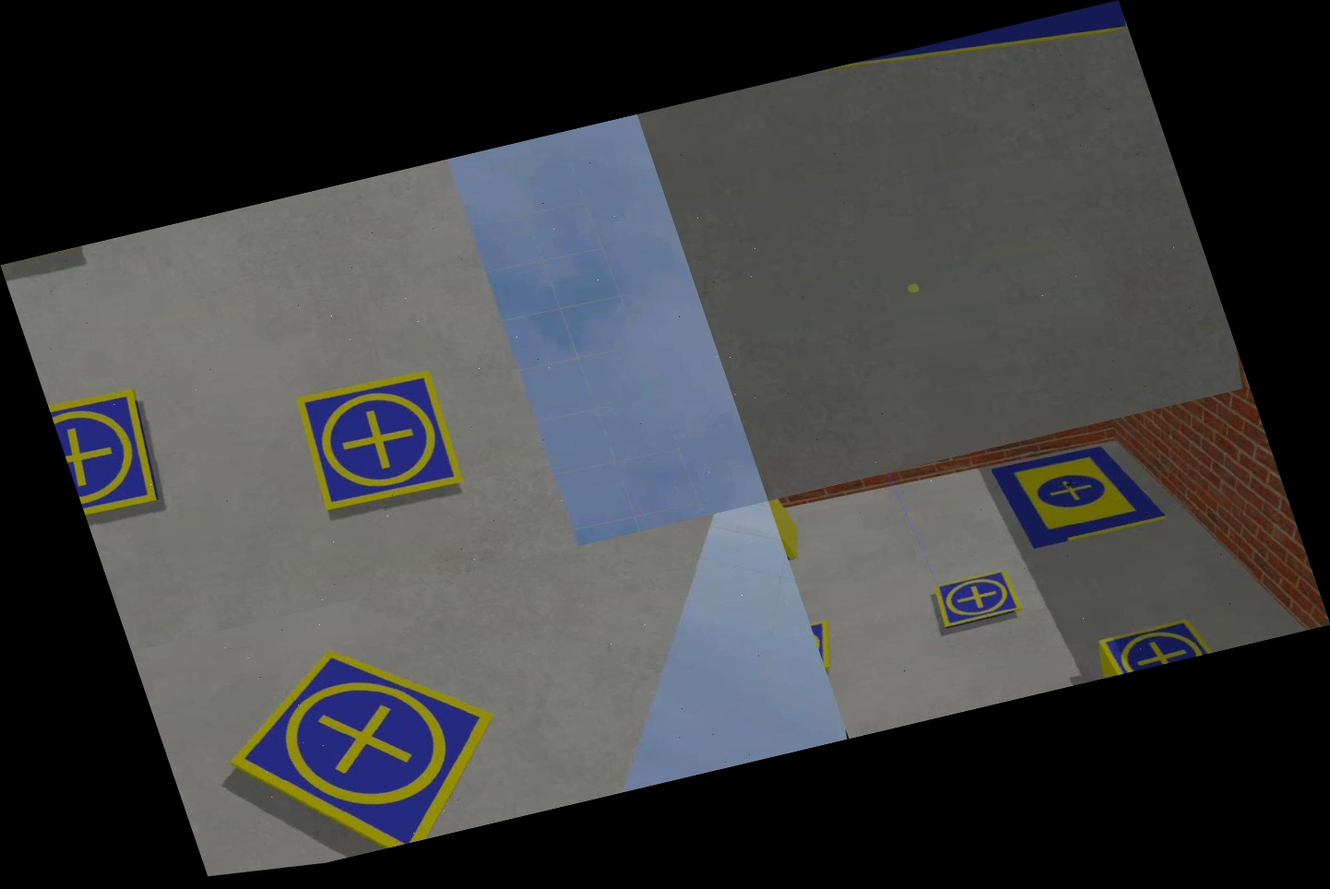large_base: (665, 0, 1128, 138), (976, 421, 1184, 571)
small_base: (180, 601, 540, 880), (272, 350, 489, 533), (43, 371, 184, 531), (1085, 600, 1233, 678), (920, 563, 1030, 642)
